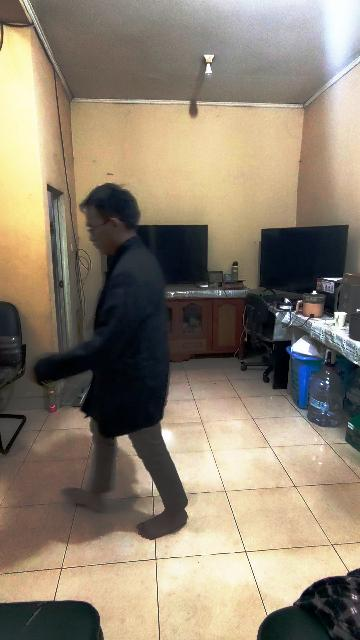berjalan: (23, 185, 191, 542)
